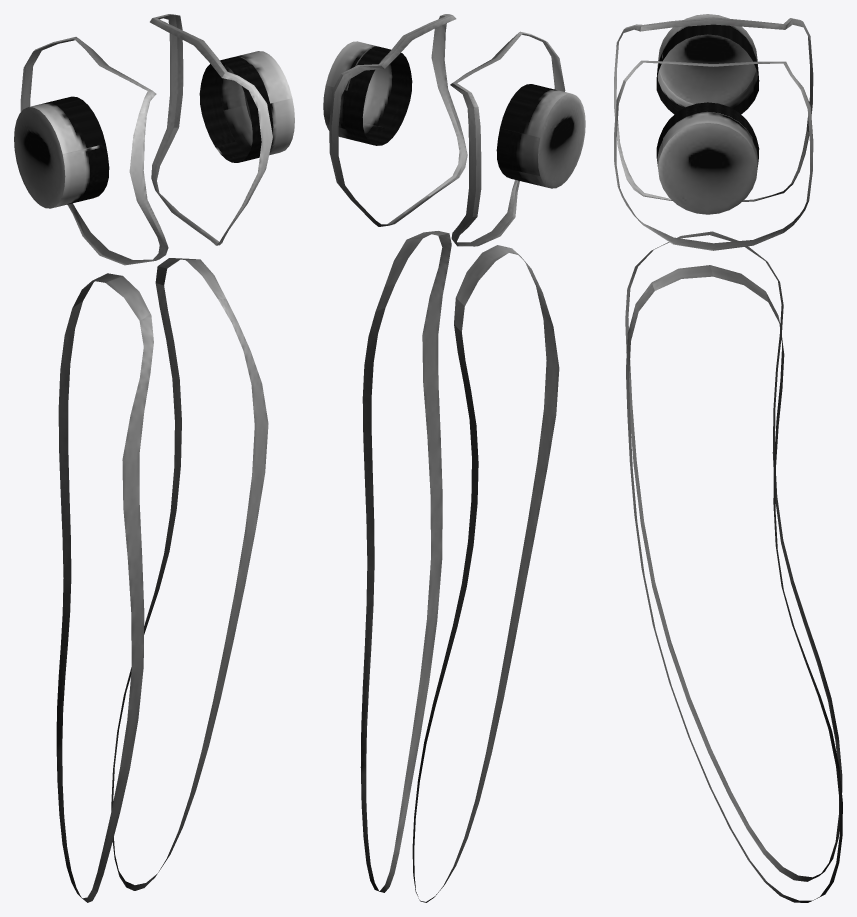
File: body_highlight.obj
3 renders of one model, left to right at view 1: azimuth 30°, elevation 25°; view 2: azimuth 150°, elevation 25°; view 3: azimuth 270°, elevation 25°, orthographic. The views are drawn at different scales.
Visible parts, largest first — view 1: body_highlight.obj; view 2: body_highlight.obj; view 3: body_highlight.obj.
Boxes of the visible parts, x1,y1,x2,y2 form: body_highlight.obj: [14, 14, 294, 902]; body_highlight.obj: [323, 14, 585, 902]; body_highlight.obj: [614, 14, 842, 902].
Size of the model in its own units: 0.3429 by 1.24 by 0.3015.
